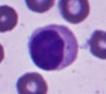L: (26, 24, 78, 70)
